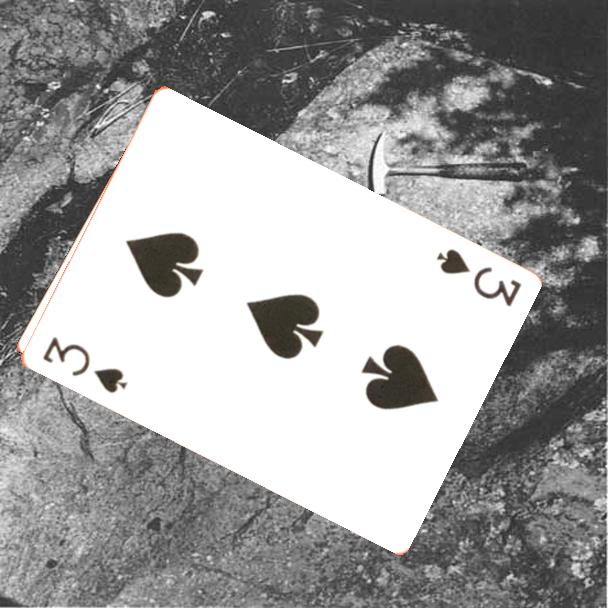s03: (432, 245, 524, 310), (38, 333, 130, 397)
